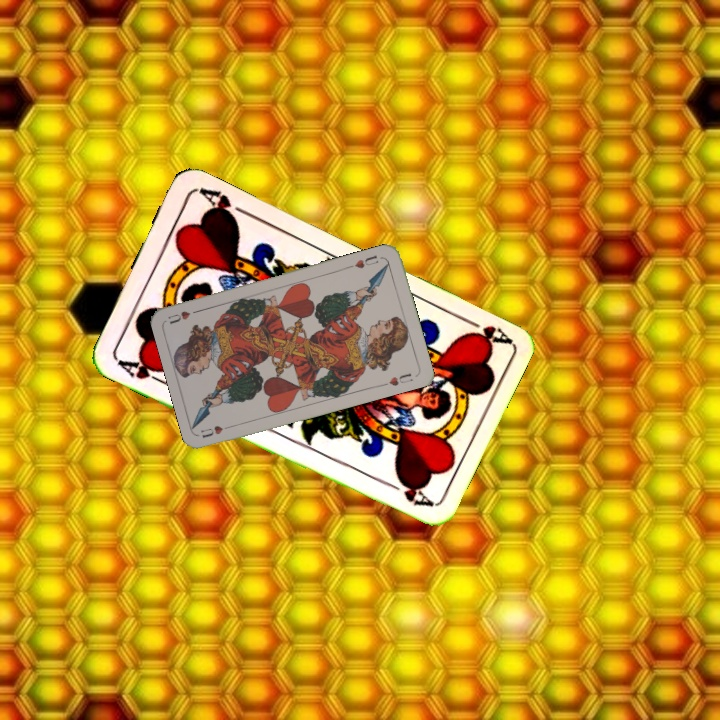HA: (455, 311, 511, 350), (112, 354, 171, 387)
HU: (197, 421, 237, 440), (351, 251, 381, 271)
